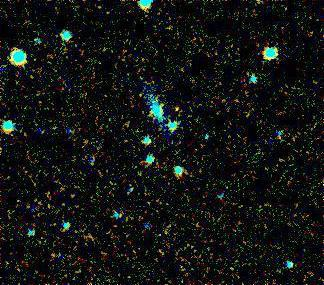star: (161, 95, 191, 125)
